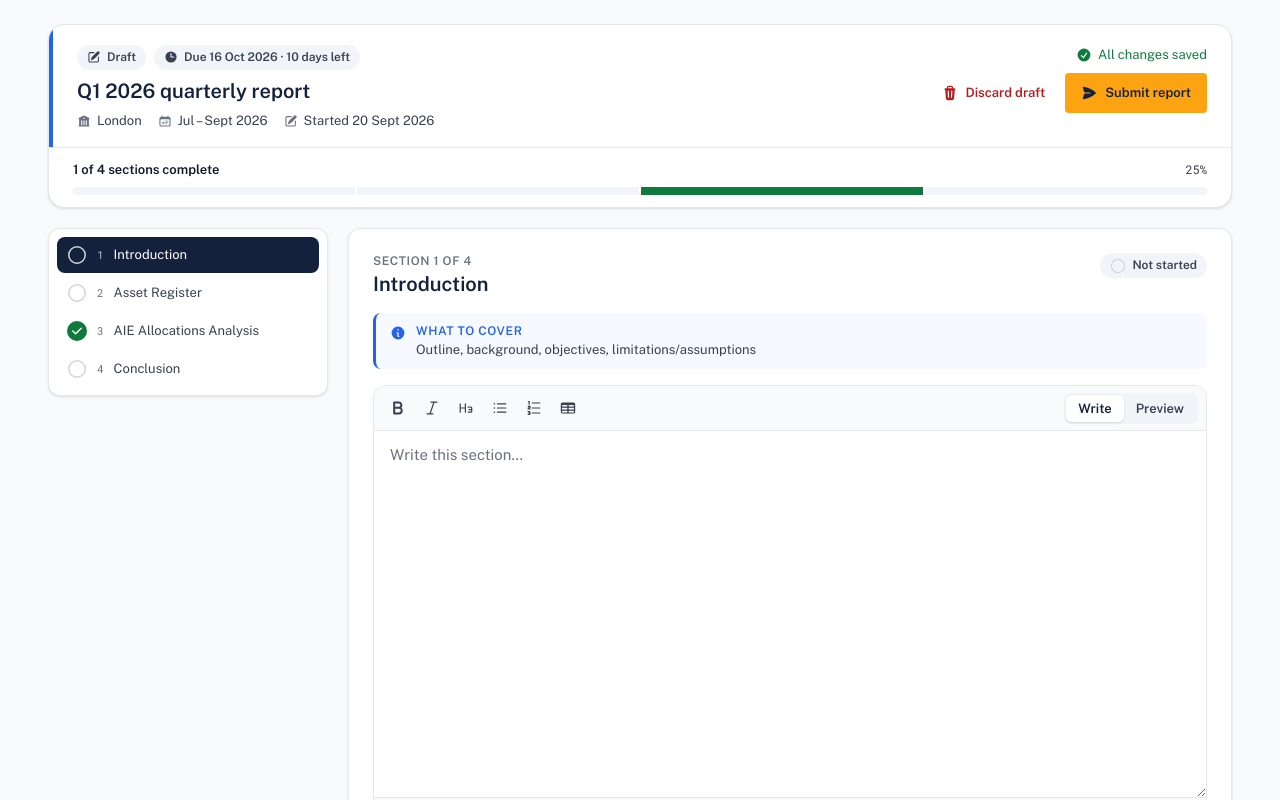
Test: ReportFormPage — the attache editor › TC-FR-RPT-004-A: shows the section with its guidance and a formatting toolbar that writes the formatting
Expected: the heading "Introduction" is shown, [373,272,488,297]
Expected: the text "Outline, background, objectives, limitations/assumptions" is shown, [416,342,756,357]
Click the button named "Bold". click: (398, 408)
box: [382,392,414,424]
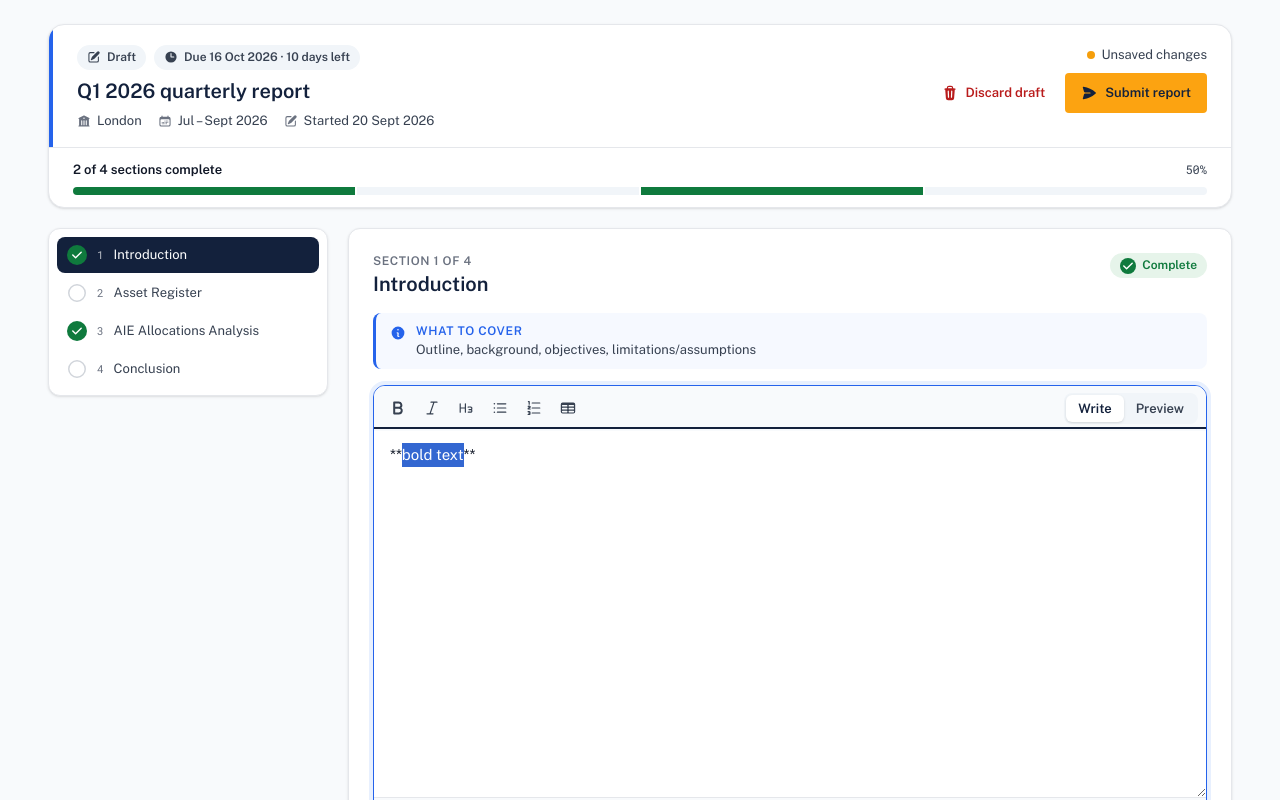
Result: the text box labelled "Introduction" holds "**bold text**" at [374,431,1206,797]
Click the button named "Bulleted list". click: (500, 408)
box: [484,392,516,424]
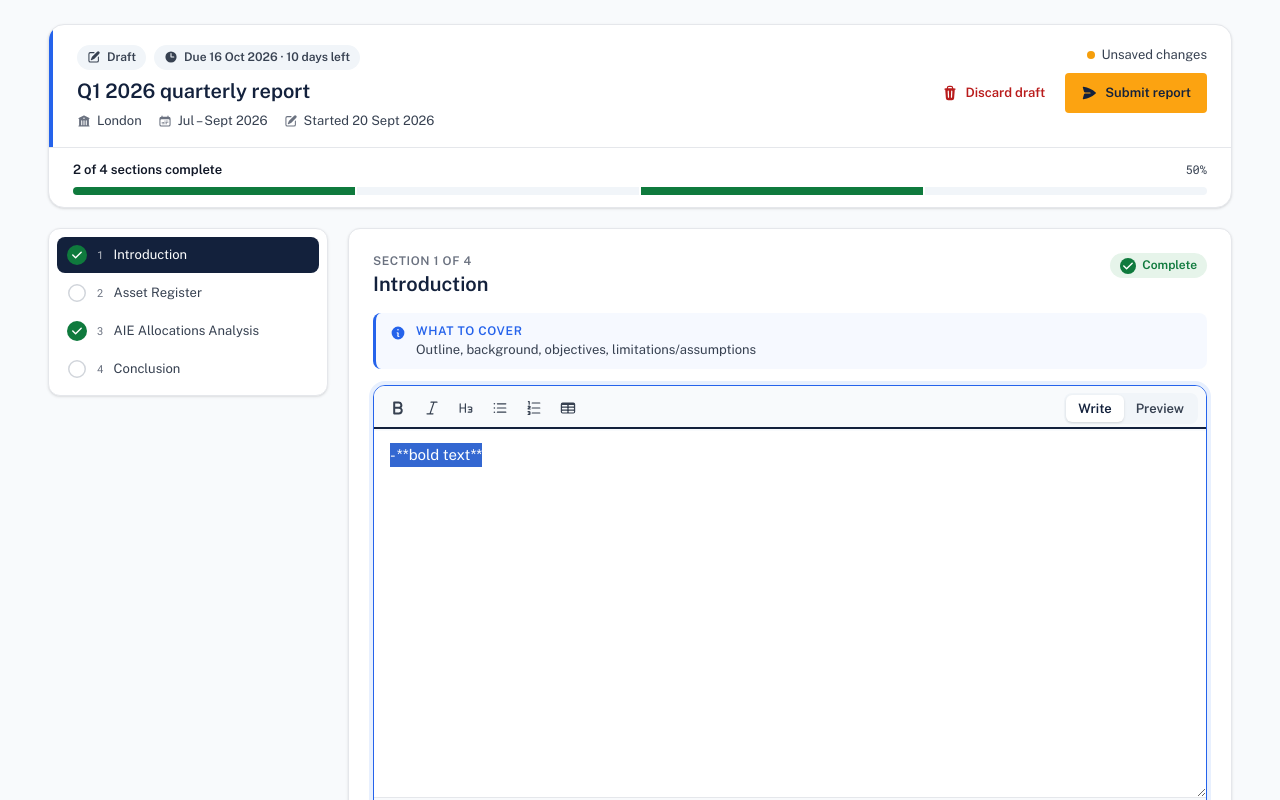
Result: the text box labelled "Introduction" holds "- **bold text**" at [374,431,1206,797]
